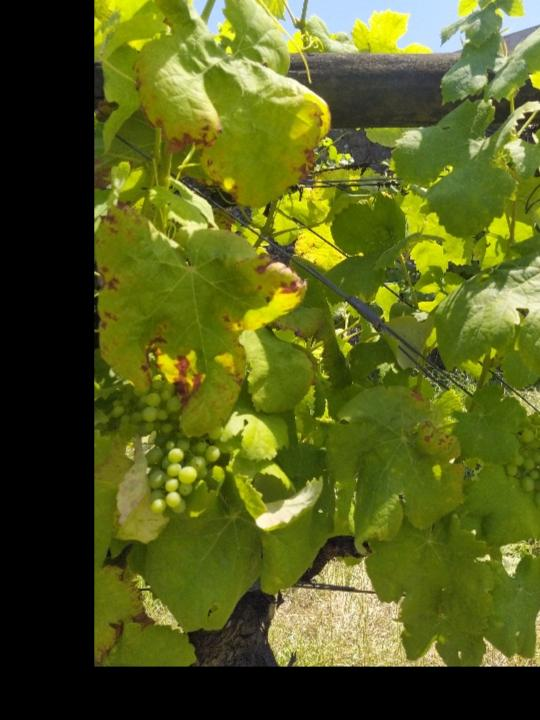grape: (131, 372, 223, 516), (504, 412, 540, 531)
